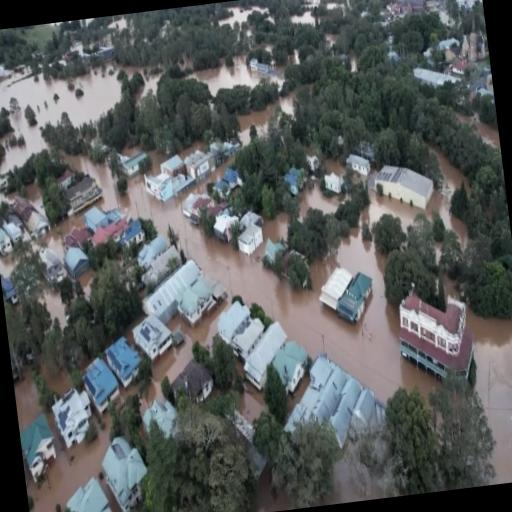flood: (66, 156, 439, 402), (0, 62, 160, 173), (27, 413, 110, 512), (469, 311, 512, 485), (148, 304, 223, 403), (318, 444, 386, 506), (427, 148, 469, 242), (189, 54, 284, 94), (240, 94, 295, 144), (32, 213, 84, 260), (362, 192, 418, 225), (257, 469, 296, 512), (14, 369, 40, 433), (457, 113, 501, 150), (300, 182, 342, 216), (42, 367, 71, 396), (240, 392, 265, 424), (44, 290, 65, 325), (265, 213, 287, 239), (103, 483, 121, 512), (225, 7, 258, 22), (26, 183, 43, 211), (0, 252, 16, 277), (80, 271, 95, 295), (294, 11, 312, 23)
house: (392, 268, 478, 391), (302, 348, 378, 444), (228, 316, 294, 400), (136, 258, 211, 324), (99, 433, 158, 512), (318, 261, 376, 328), (377, 157, 436, 219), (48, 386, 100, 453), (18, 408, 60, 488), (80, 354, 124, 412), (103, 334, 147, 392), (60, 471, 119, 512), (58, 166, 106, 216), (174, 282, 218, 330), (214, 298, 255, 346), (230, 209, 266, 263), (175, 142, 217, 186), (16, 194, 48, 242), (146, 166, 182, 208), (117, 144, 152, 182), (320, 154, 350, 198), (208, 208, 238, 248), (62, 244, 92, 281), (346, 148, 374, 187), (88, 132, 114, 166), (117, 221, 148, 249), (160, 154, 188, 180), (248, 56, 274, 78)
